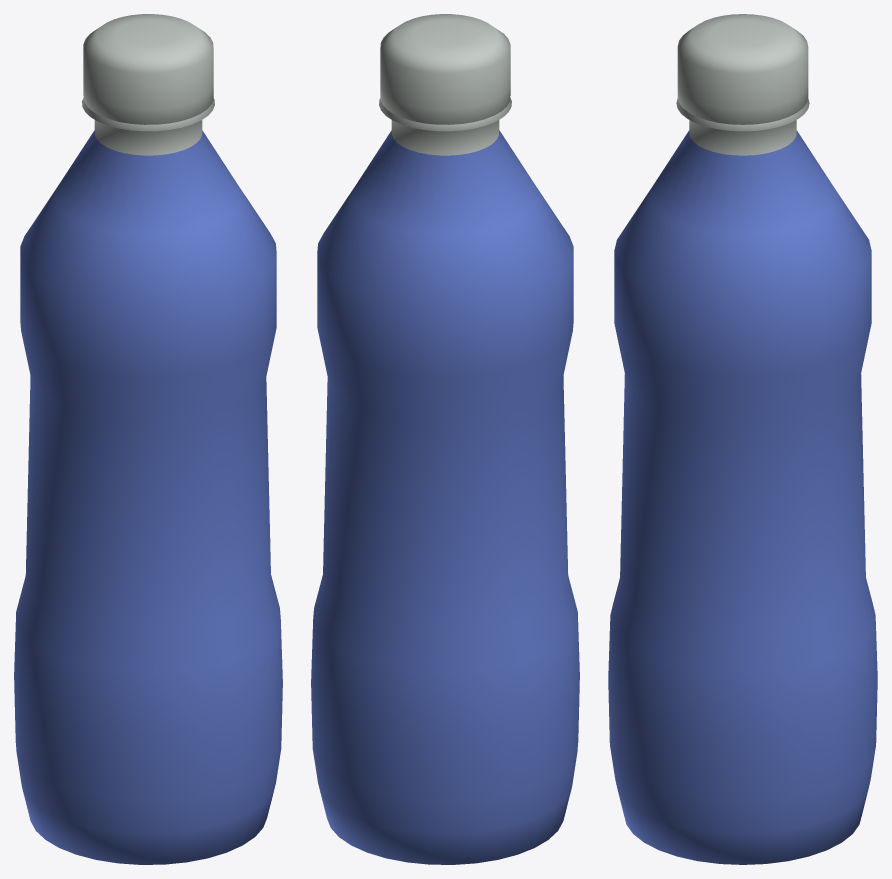
Rendered from water.blenmd.fbx.
3 views of the same model, side by side, from view 1: azimuth 30°, elevation 25°; view 2: azimuth 150°, elevation 25°; view 3: azimuth 270°, elevation 25° (orthographic).
Parts seen in each view (by area): view 1: woda; view 2: woda; view 3: woda.
Boxes of the visible parts, x1,y1,x2,y2 form: woda: (14, 14, 282, 864); woda: (311, 14, 579, 864); woda: (608, 14, 877, 864).
Bounding box in the file's own units: 324 × 1036 × 324.
